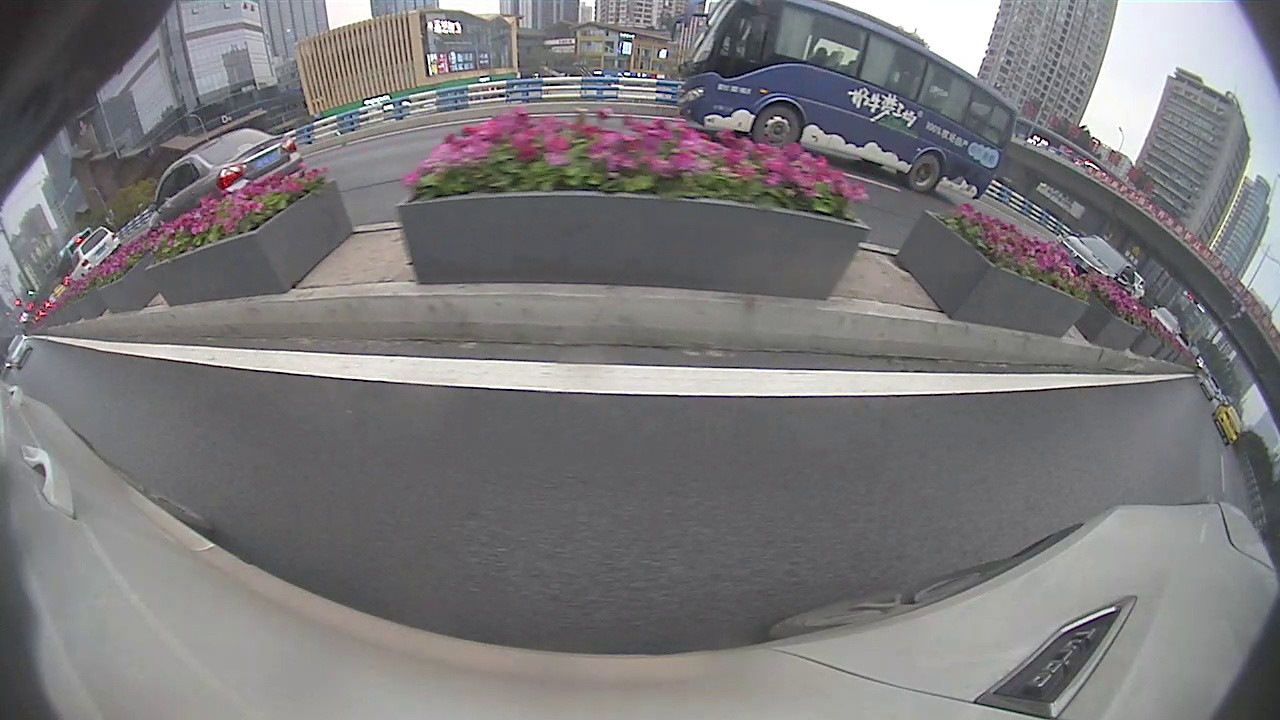bus: (677, 1, 1020, 202)
car: (1211, 403, 1244, 447)
front: (752, 101, 803, 149)
rear: (906, 154, 942, 193)
